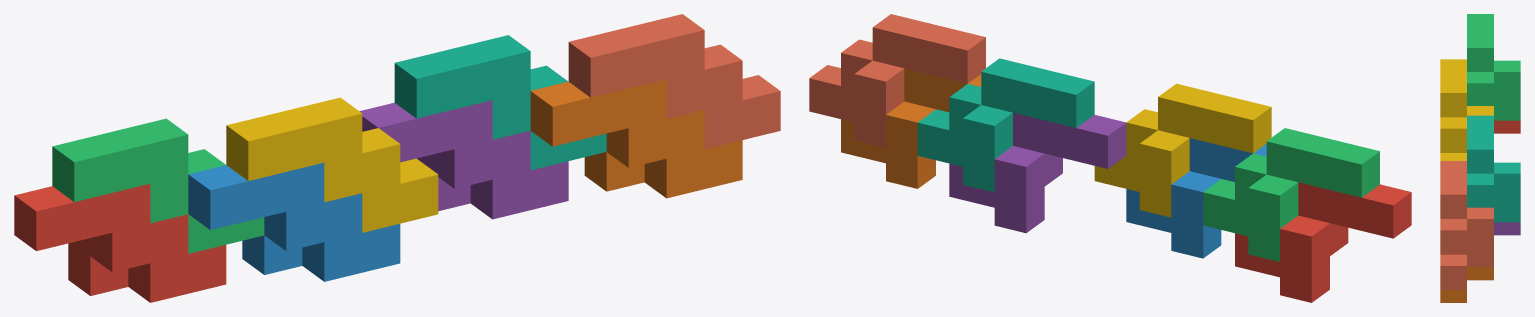
Rendered from tiling.obj.
The picture shows the model from 3 angles, left to right: view 1: azimuth 30°, elevation 25°; view 2: azimuth 150°, elevation 25°; view 3: azimuth 270°, elevation 25°; orthographic projection. The views are drawn at different scales.
Visible parts, largest first — view 1: copy_1_domain_1, copy_1_domain_2, copy_1_domain_6, copy_1_domain_8, copy_1_domain_4, copy_1_domain_5, copy_1_domain_7, copy_1_domain_3; view 2: copy_1_domain_7, copy_1_domain_3, copy_1_domain_8, copy_1_domain_4, copy_1_domain_5, copy_1_domain_1, copy_1_domain_2, copy_1_domain_6; view 3: copy_1_domain_8, copy_1_domain_7, copy_1_domain_3, copy_1_domain_4, copy_1_domain_6, copy_1_domain_1, copy_1_domain_5.
Part boxes in pixels (x1,y1,x2,y2): copy_1_domain_1: (14, 184, 226, 302); copy_1_domain_2: (188, 162, 400, 281); copy_1_domain_6: (530, 79, 742, 198); copy_1_domain_8: (568, 14, 780, 149); copy_1_domain_4: (226, 97, 438, 232); copy_1_domain_5: (359, 100, 568, 219); copy_1_domain_7: (394, 35, 606, 170); copy_1_domain_3: (52, 118, 264, 253); copy_1_domain_7: (917, 58, 1094, 192); copy_1_domain_3: (1203, 128, 1379, 261); copy_1_domain_8: (809, 14, 985, 147); copy_1_domain_4: (1094, 83, 1271, 217); copy_1_domain_5: (949, 112, 1126, 233); copy_1_domain_1: (1235, 182, 1411, 302); copy_1_domain_2: (1126, 138, 1266, 258); copy_1_domain_6: (841, 68, 981, 188); copy_1_domain_8: (1440, 161, 1493, 289); copy_1_domain_7: (1467, 115, 1520, 222); copy_1_domain_3: (1467, 14, 1520, 120); copy_1_domain_4: (1440, 59, 1493, 160); copy_1_domain_6: (1440, 267, 1493, 302); copy_1_domain_1: (1494, 120, 1520, 133); copy_1_domain_5: (1494, 222, 1520, 235).
Size of the model in its own units: 19 by 4 by 3.
